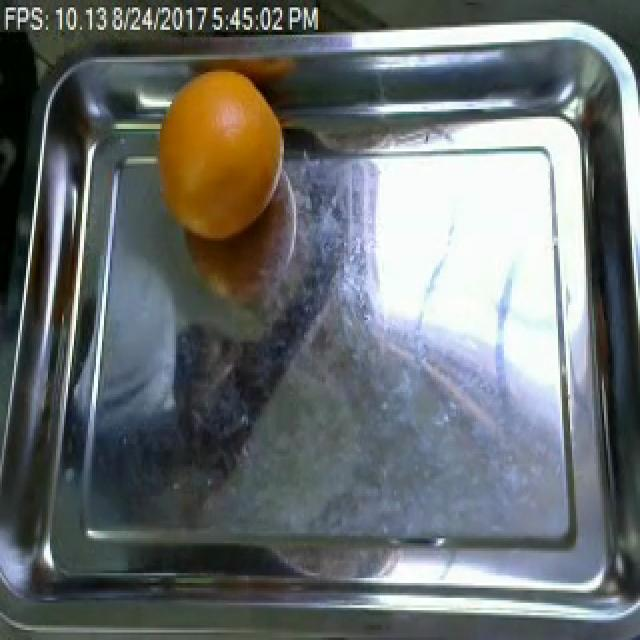Fruit: (152, 62, 288, 241)
